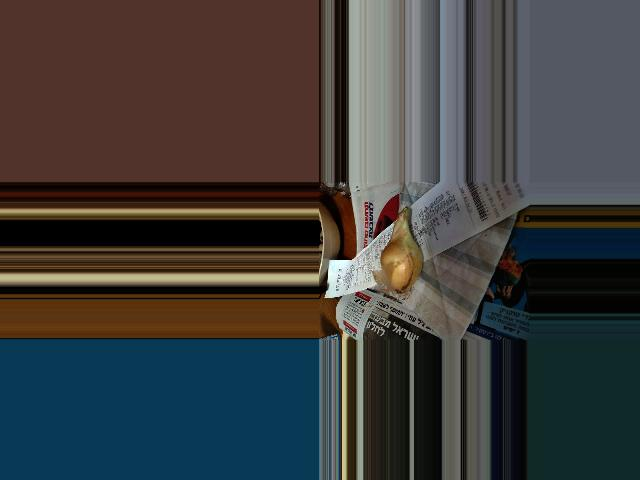onion: (382, 217, 420, 294)
